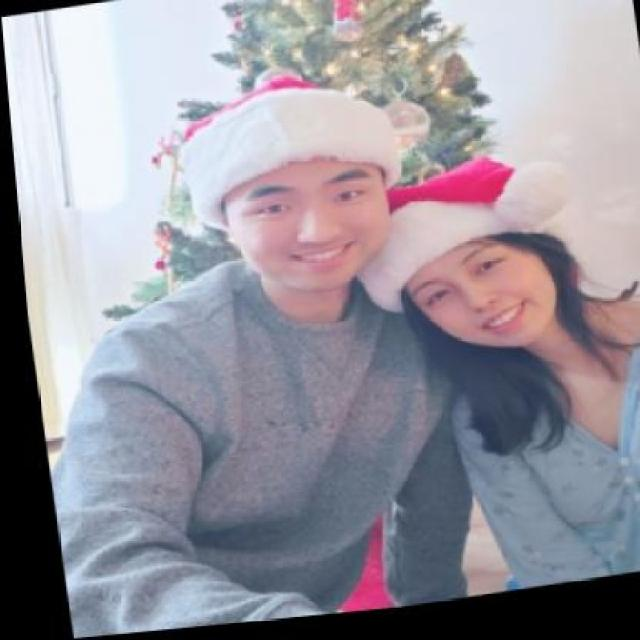hat: (339, 145, 581, 332), (167, 62, 407, 243)
